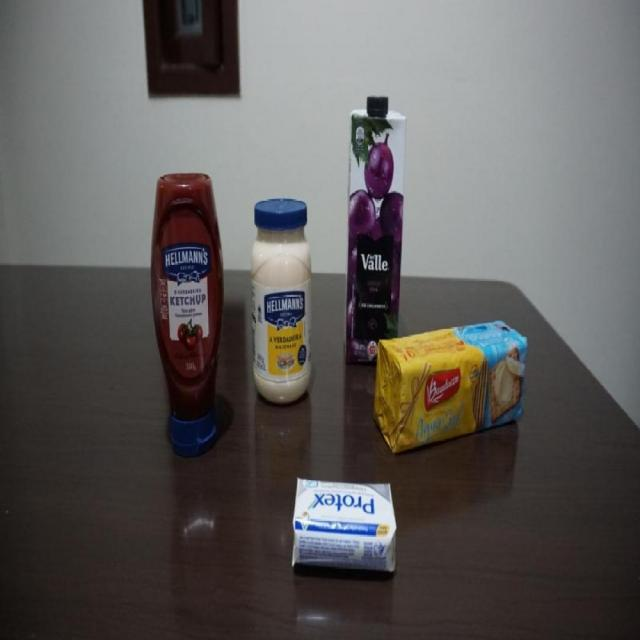Cracker: (372, 320, 528, 456)
Ketchup: (150, 169, 226, 464)
Mayonnaise: (250, 196, 314, 405)
Soap: (290, 475, 399, 578)
